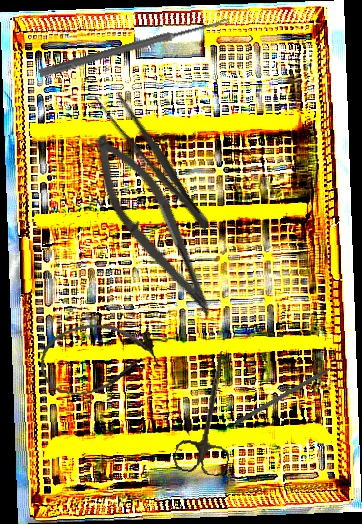Cannula: (34, 313, 162, 403)
Dressing Forceps: (90, 82, 220, 237)
Hook Surgical: (234, 359, 346, 427)
Iris Scissors: (172, 346, 246, 478)
Micro Scissor: (72, 124, 239, 328)
Surgical Spoon: (38, 15, 231, 79)
